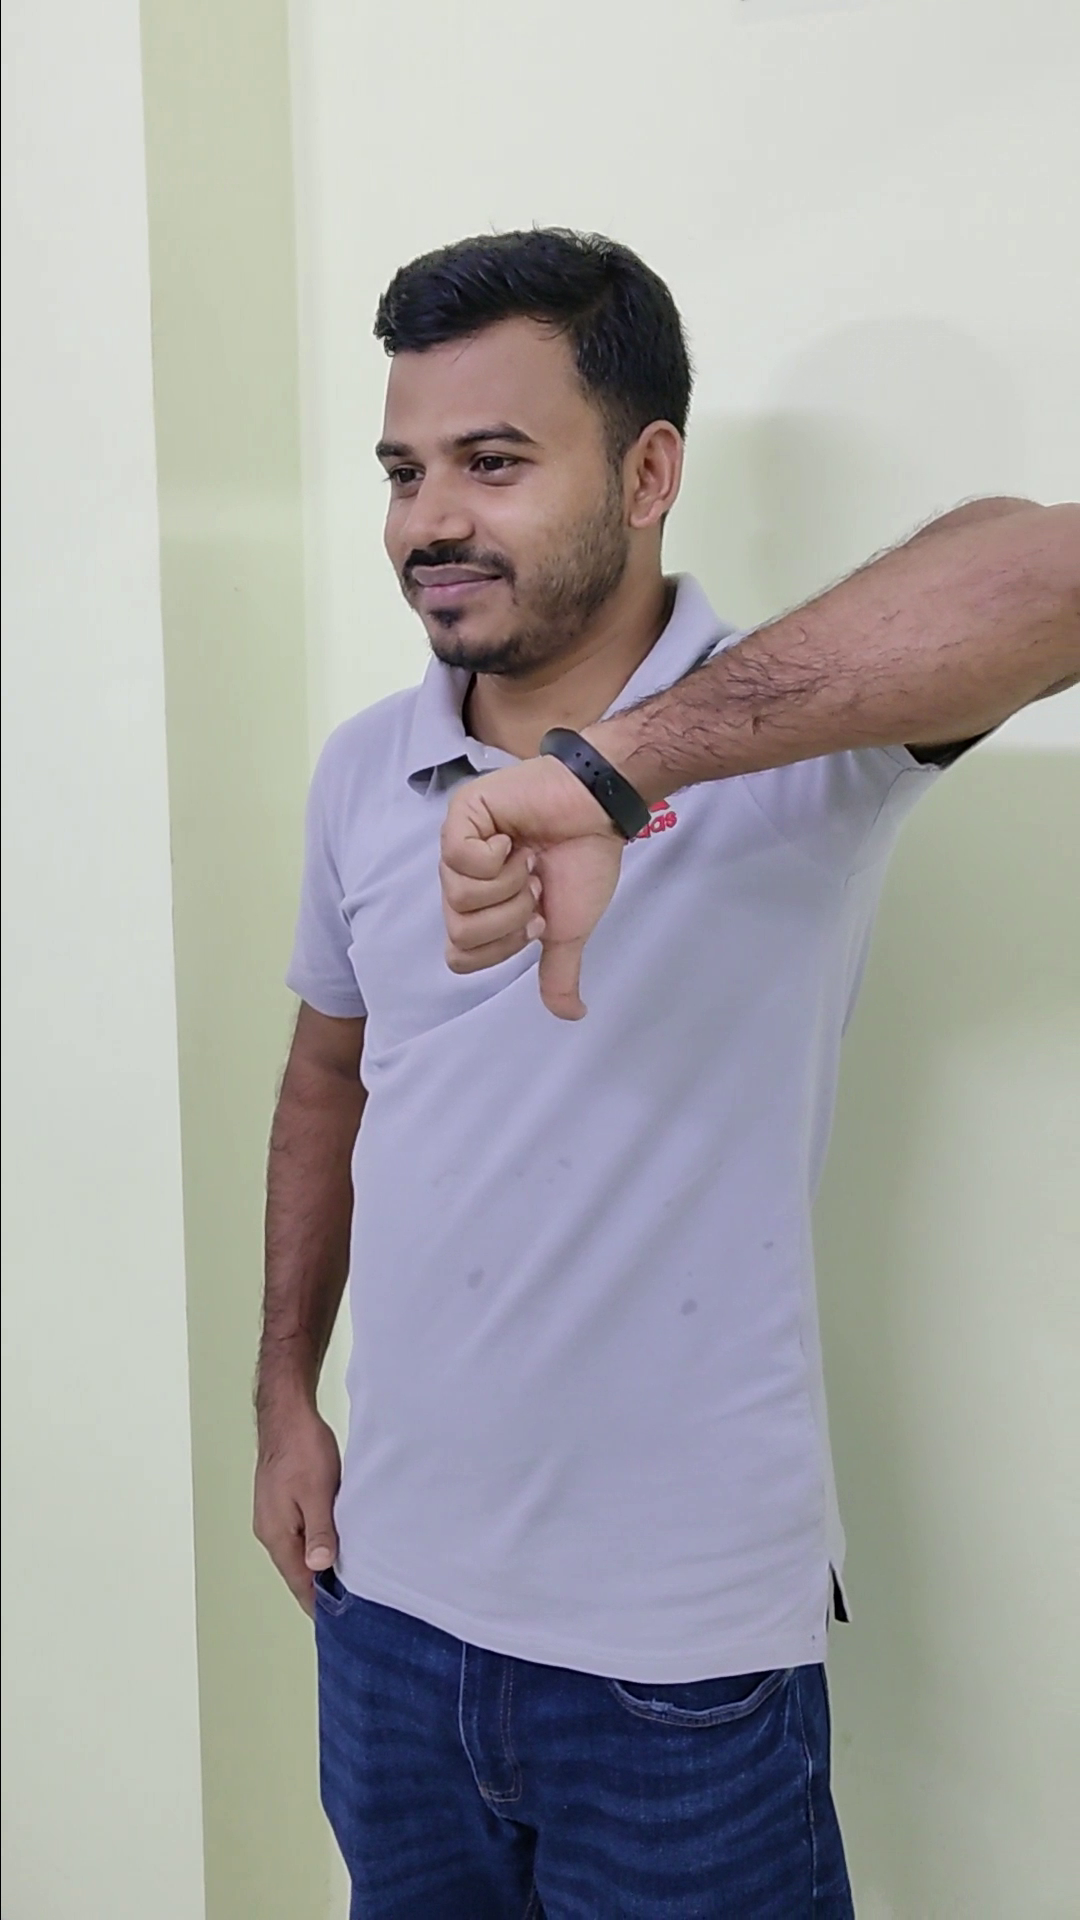Dislike: (410, 713, 640, 1039)
None: (225, 1348, 372, 1640)
